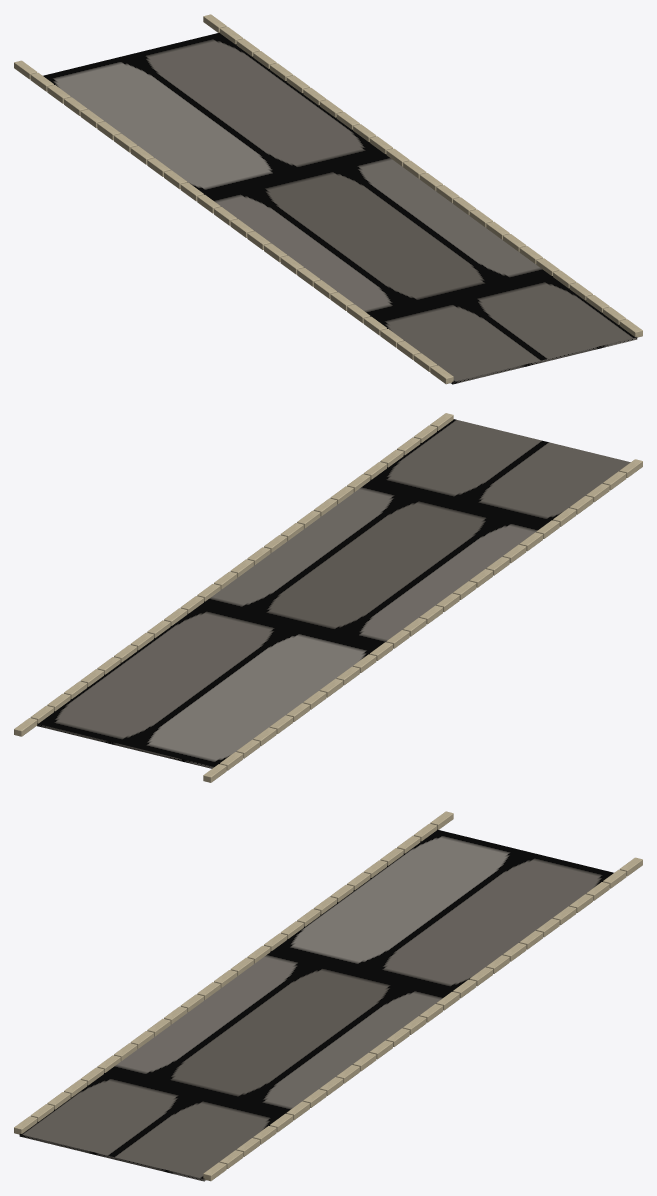
The model's file is Road_Cobblestone_25m_LOD0.fbx.
The picture shows the model from 3 angles, top to bottom: view 1: azimuth 30°, elevation 25°; view 2: azimuth 150°, elevation 25°; view 3: azimuth 330°, elevation 25°; orthographic projection.
Visible parts, largest first — view 1: Road_Cobblestone_25m_Surface_OPT, Road_Cobblestone_25m_OPT_Merged_ENV_Plaster_Ochre_OPT_DATA; view 2: Road_Cobblestone_25m_Surface_OPT, Road_Cobblestone_25m_OPT_Merged_ENV_Plaster_Ochre_OPT_DATA; view 3: Road_Cobblestone_25m_Surface_OPT, Road_Cobblestone_25m_OPT_Merged_ENV_Plaster_Ochre_OPT_DATA.
Part boxes in pixels (x1,y1,x2,y2): Road_Cobblestone_25m_Surface_OPT: (43,32,637,384); Road_Cobblestone_25m_OPT_Merged_ENV_Plaster_Ochre_OPT_DATA: (14,14,642,384); Road_Cobblestone_25m_Surface_OPT: (37,419,630,768); Road_Cobblestone_25m_OPT_Merged_ENV_Plaster_Ochre_OPT_DATA: (14,413,642,782); Road_Cobblestone_25m_Surface_OPT: (19,829,613,1181); Road_Cobblestone_25m_OPT_Merged_ENV_Plaster_Ochre_OPT_DATA: (14,811,642,1181).
Bounding box in the file's own units: 684 × 24 × 2597.
Materials: 2 (2 with a texture image).
